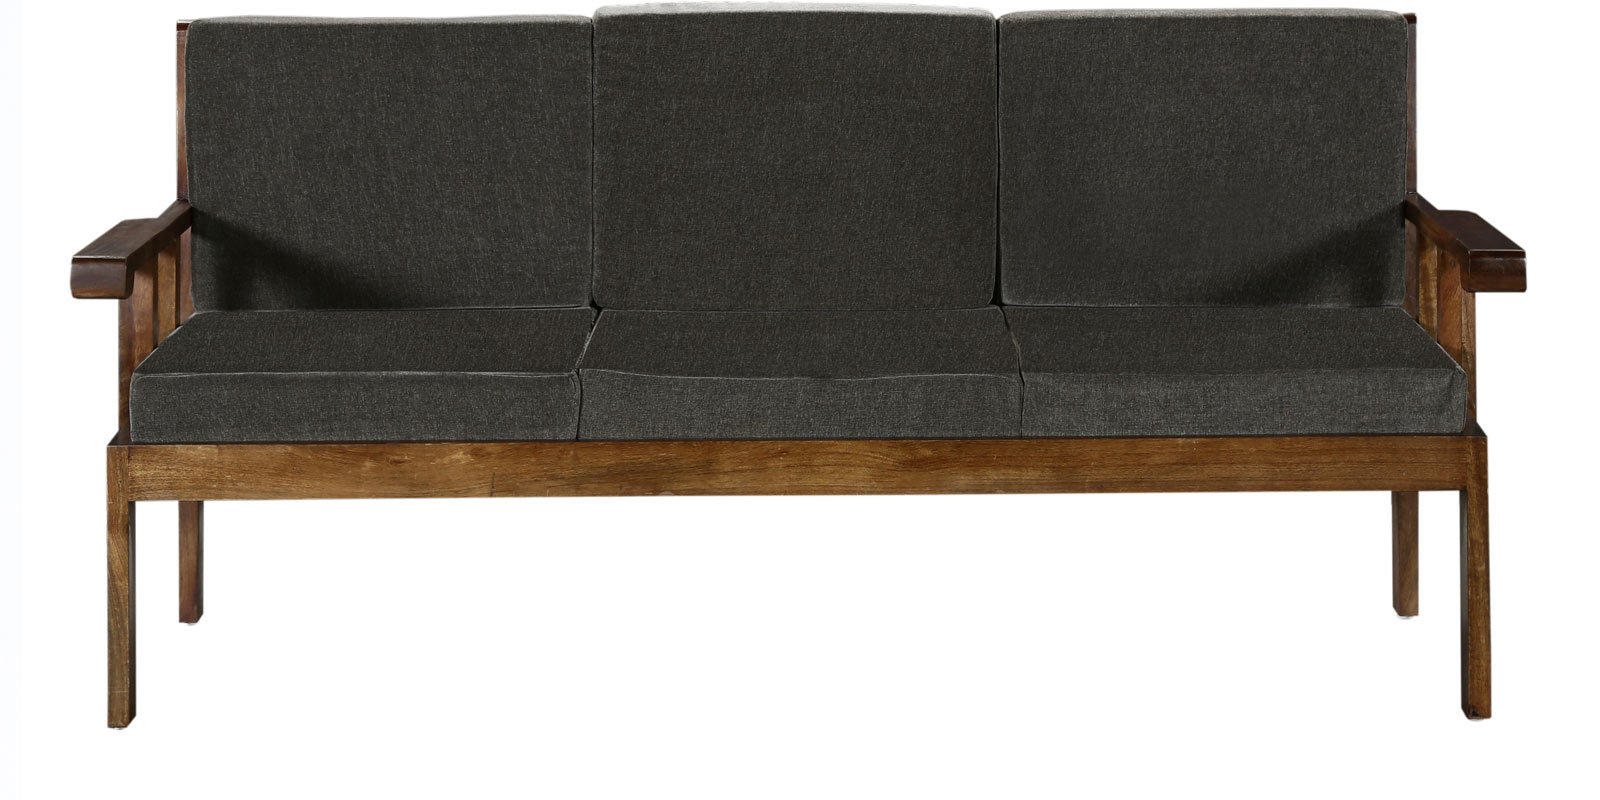Corvallis Three Seater Sofa in Provincial Teak Finish by Woodsworth: (46, 9, 1539, 763)
